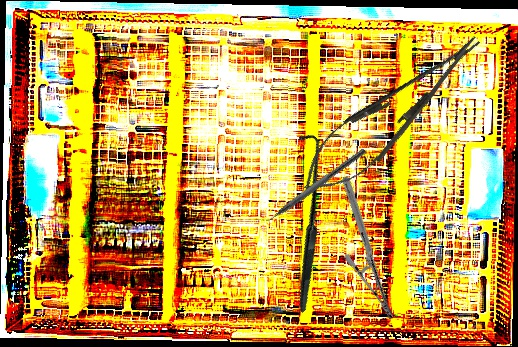Chopper: (255, 140, 367, 231)
Hook Surgical: (213, 129, 397, 313)
Needle Holder: (288, 19, 496, 211), (293, 174, 443, 322)
